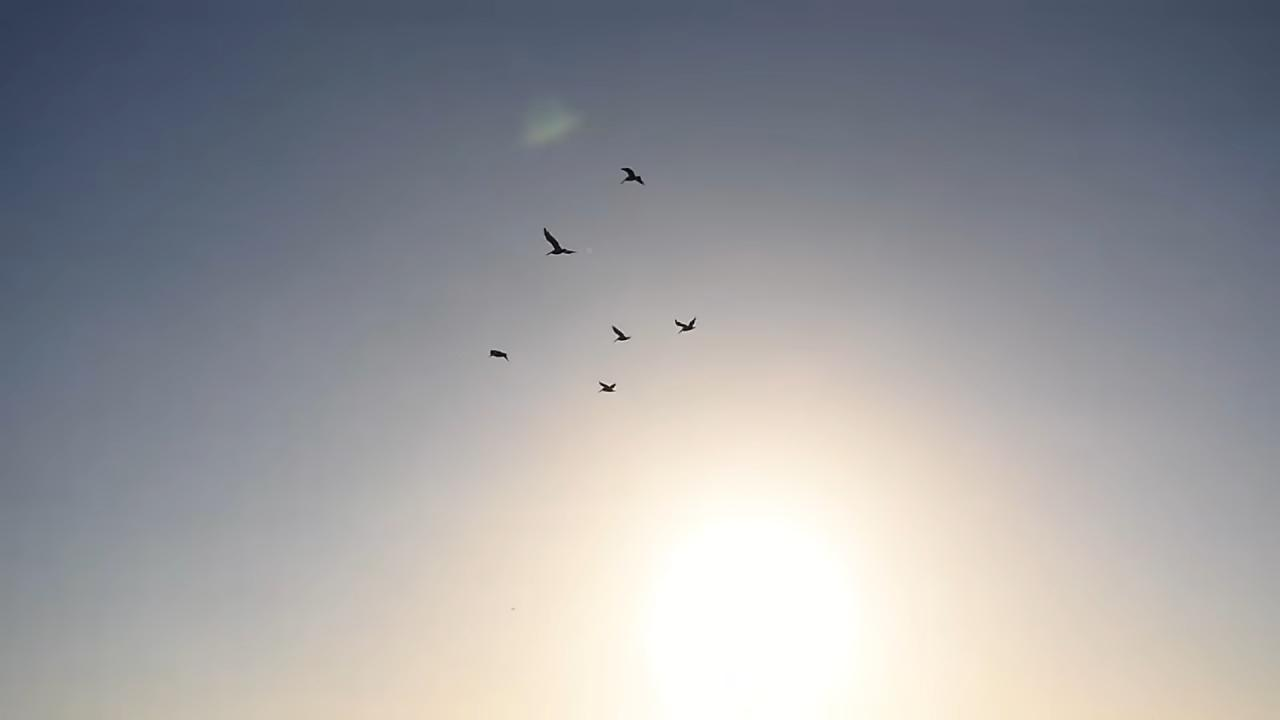Bird: (534, 222, 581, 263), (614, 158, 651, 195), (669, 313, 706, 340), (481, 342, 519, 368), (606, 318, 636, 350), (590, 375, 624, 401)
